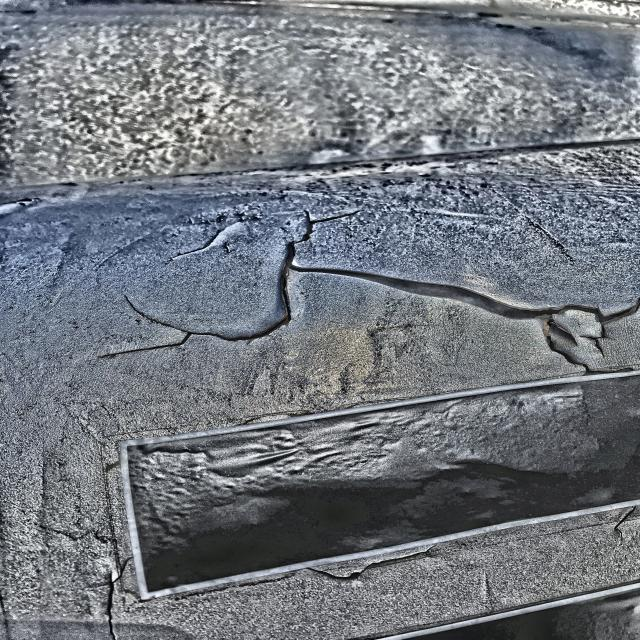crack: (289, 267, 629, 339), (101, 281, 284, 381), (273, 215, 372, 266)
